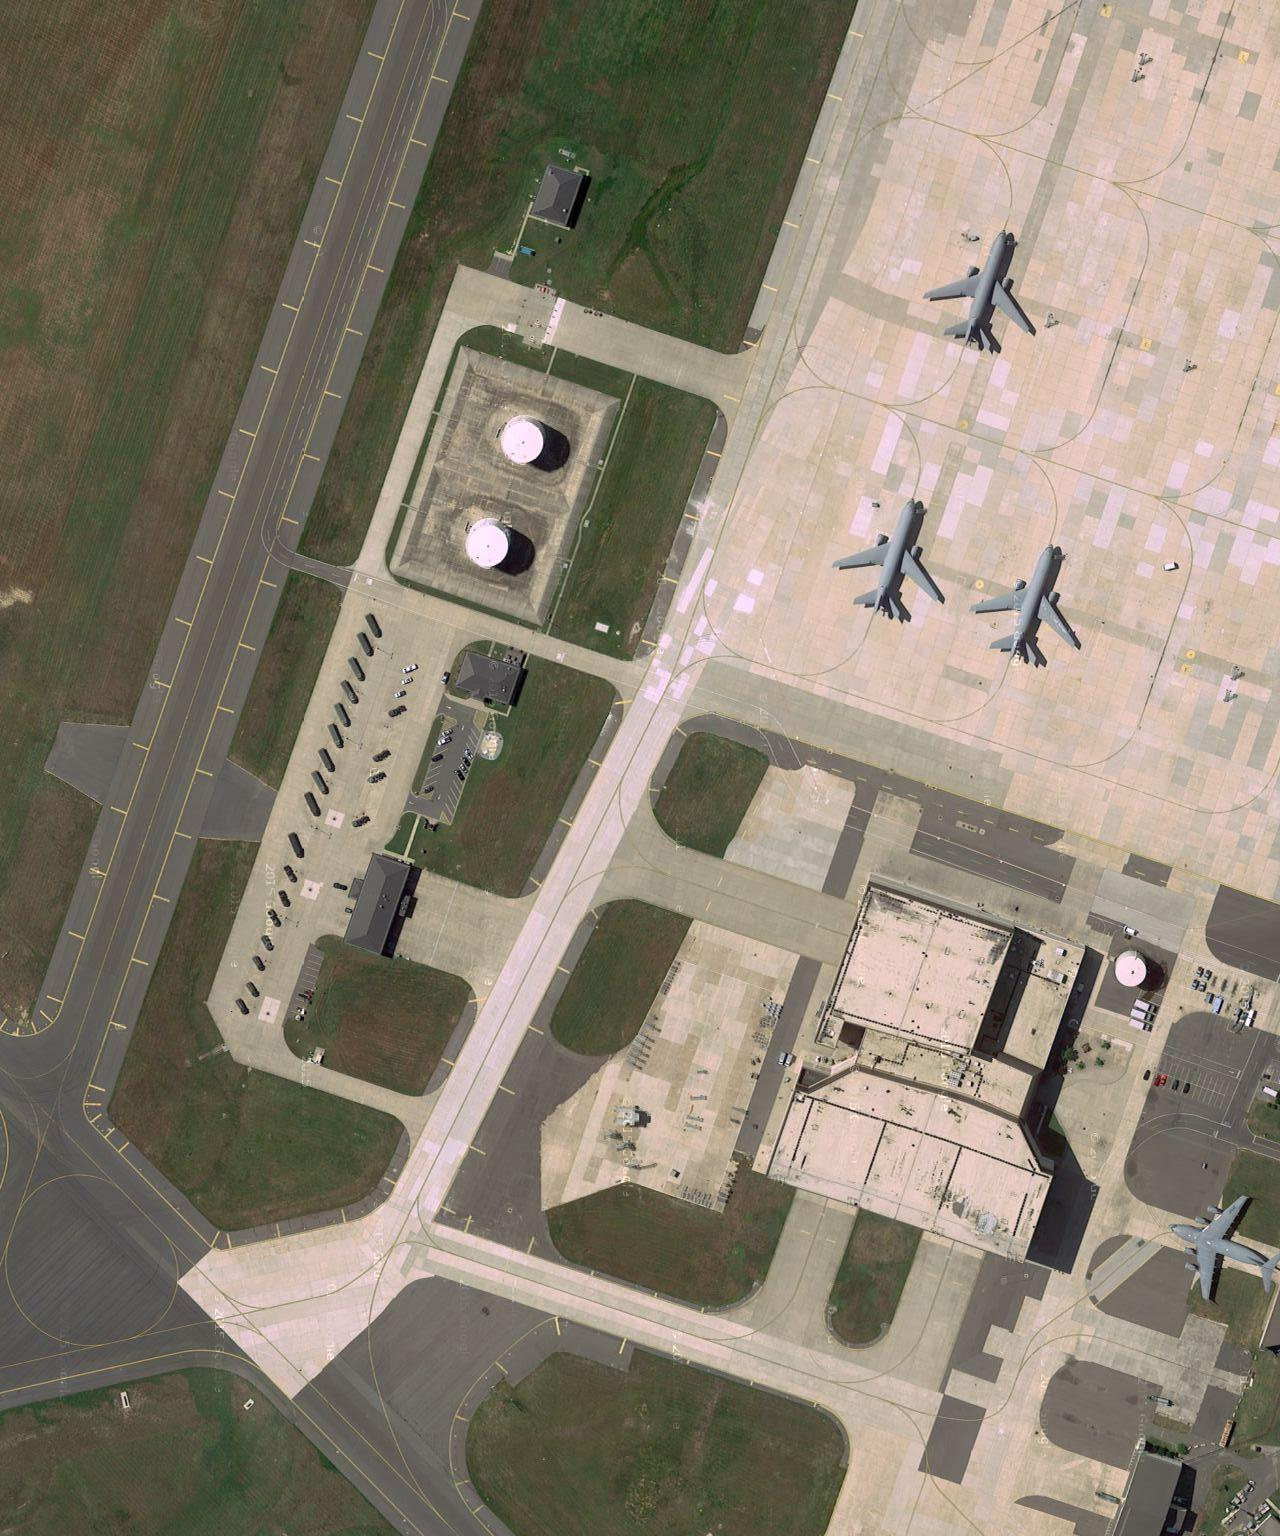C-17: (1163, 1184, 1277, 1311)
KC-10: (969, 532, 1089, 676), (835, 487, 949, 626), (928, 223, 1041, 361)
